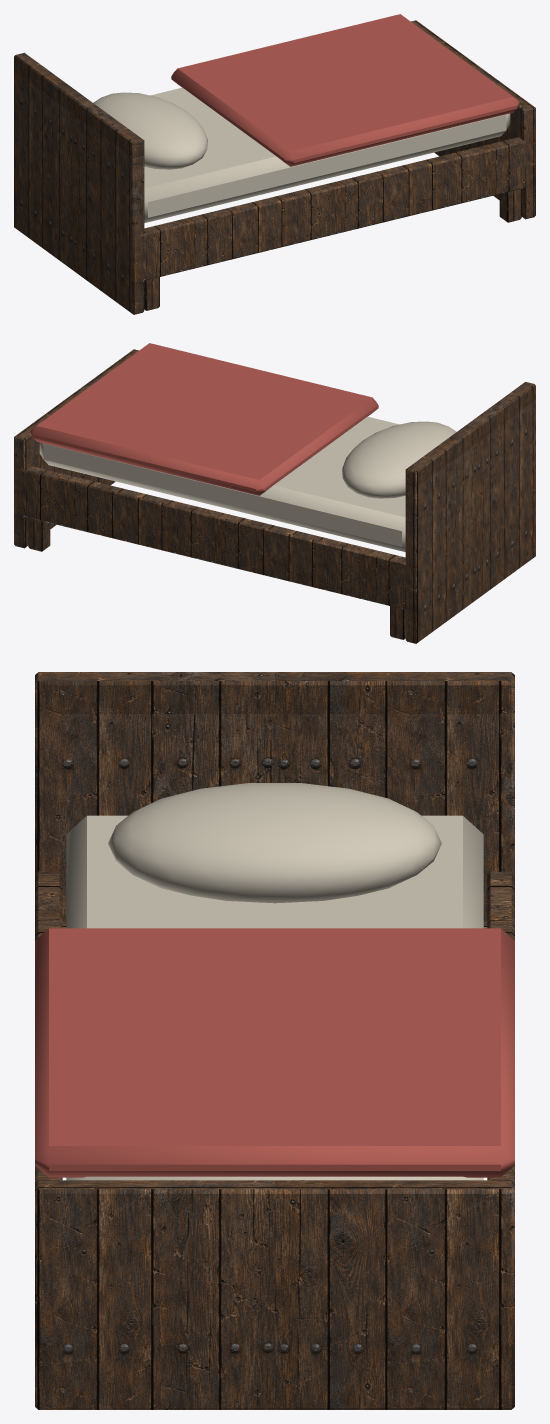
File: simple-bed-v01.glb
3 renders of one model, top to bottom at view 1: azimuth 30°, elevation 25°; view 2: azimuth 150°, elevation 25°; view 3: azimuth 270°, elevation 25°, orthographic. The views are drawn at different scales.
Parts seen in each view (by area): view 1: simple-bed; view 2: simple-bed; view 3: simple-bed.
Part boxes in pixels (box(x1,y1,x2,y2)): simple-bed: box(14, 14, 535, 314); simple-bed: box(14, 343, 535, 643); simple-bed: box(35, 672, 514, 1409).
Size of the model in its own units: 2.68 by 1.1 by 1.38.
3 materials, 1 textured.
